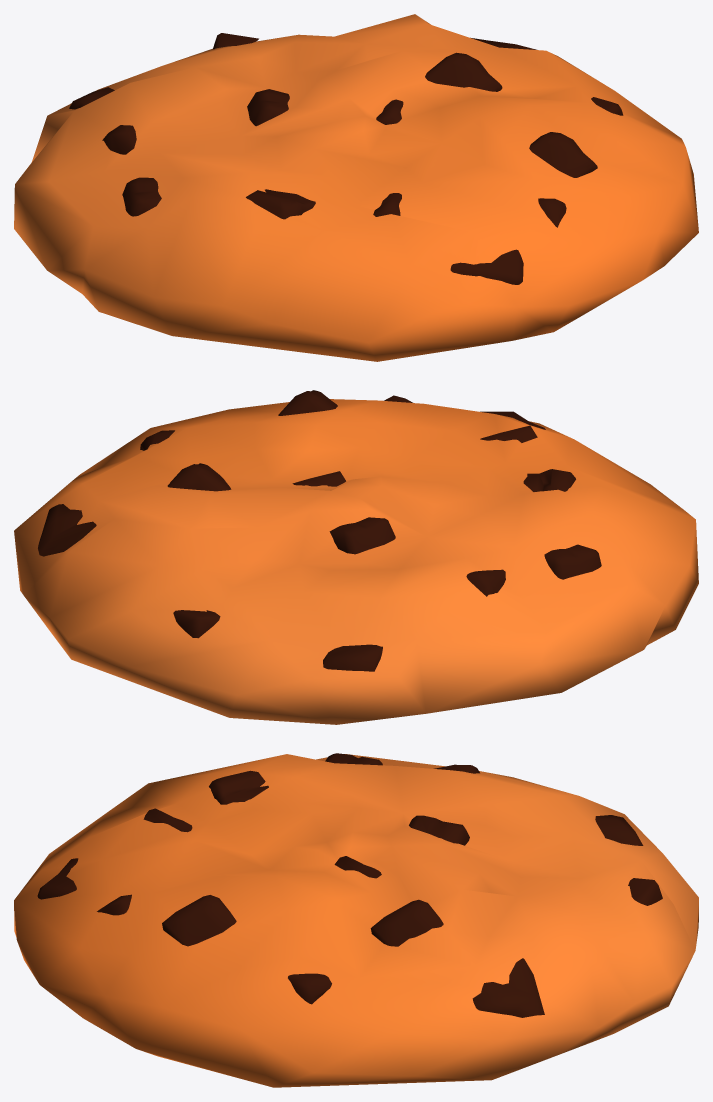
The model's file is Cookie.fbx.
3 views of the same model, one above another, from view 1: azimuth 30°, elevation 25°; view 2: azimuth 150°, elevation 25°; view 3: azimuth 270°, elevation 25° (orthographic).
Parts seen in each view (by area): view 1: Cookie; view 2: Cookie; view 3: Cookie.
Part boxes in pixels (x1,y1,x2,y2): Cookie: (14, 14, 698, 361); Cookie: (14, 390, 698, 724); Cookie: (14, 753, 698, 1087).
Bounding box in the file's own units: 150 × 26.41 × 148.
